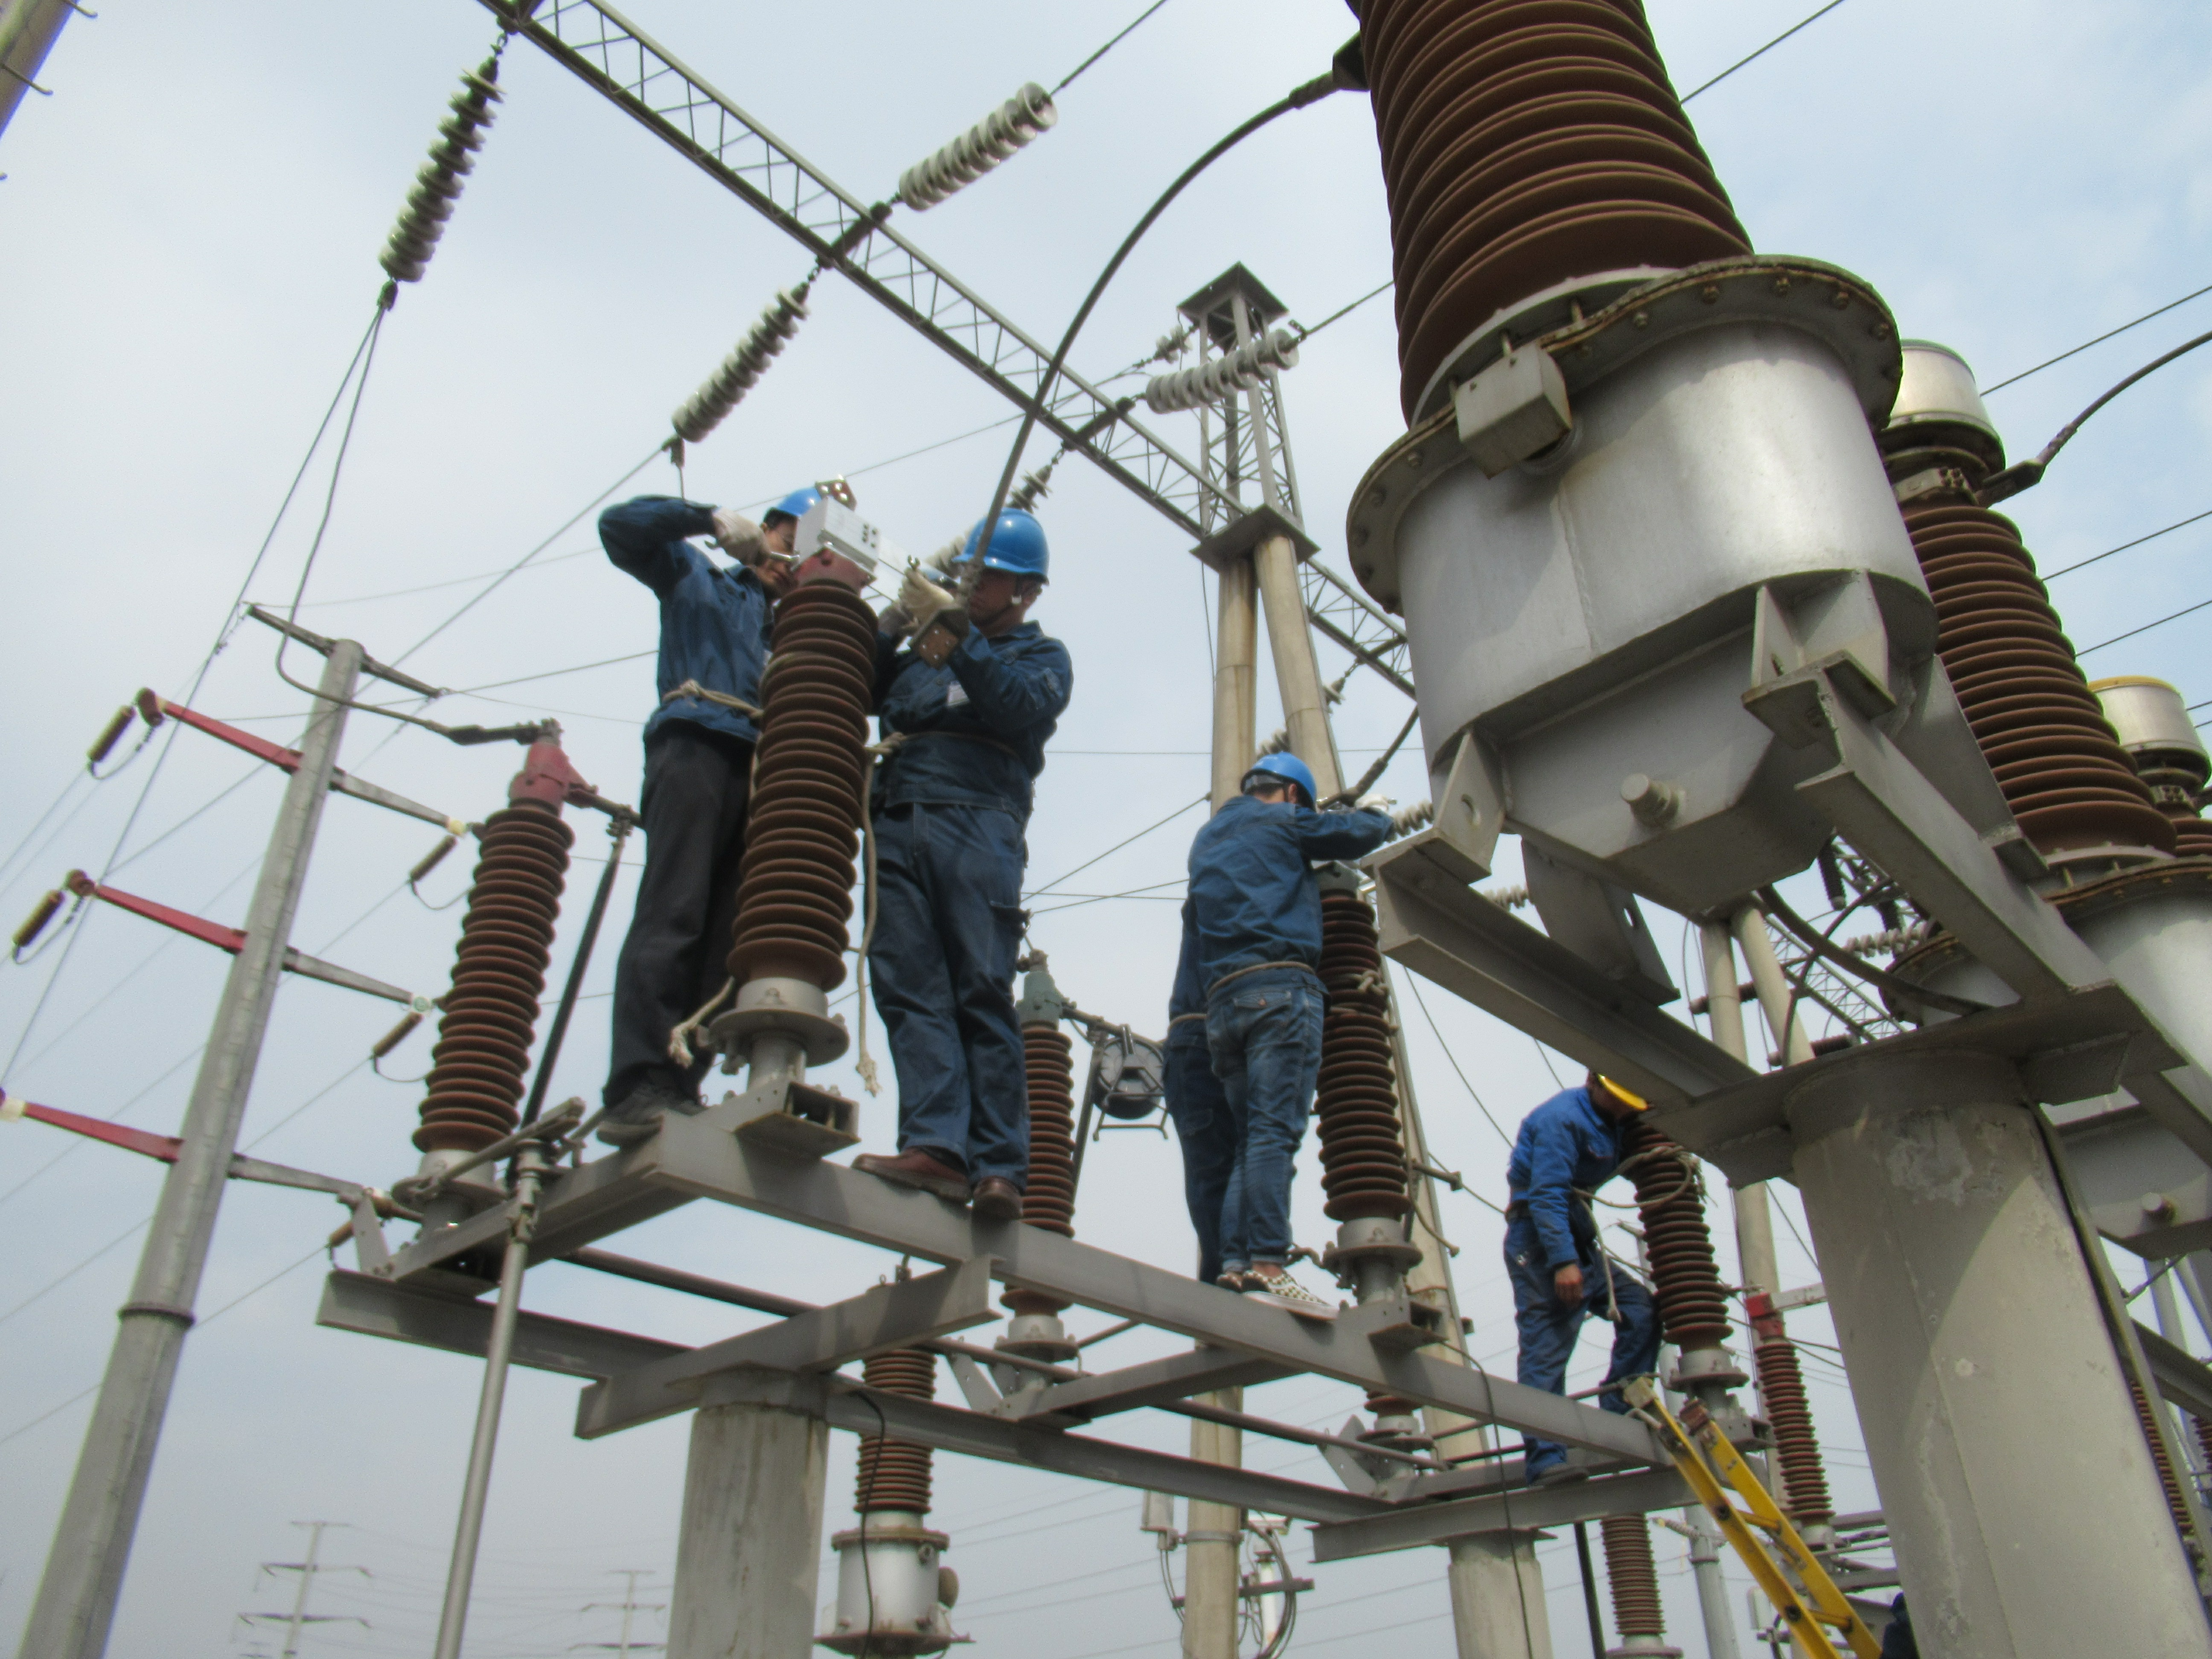hat: (960, 507, 1059, 638), (1235, 742, 1327, 819), (745, 481, 824, 551)
